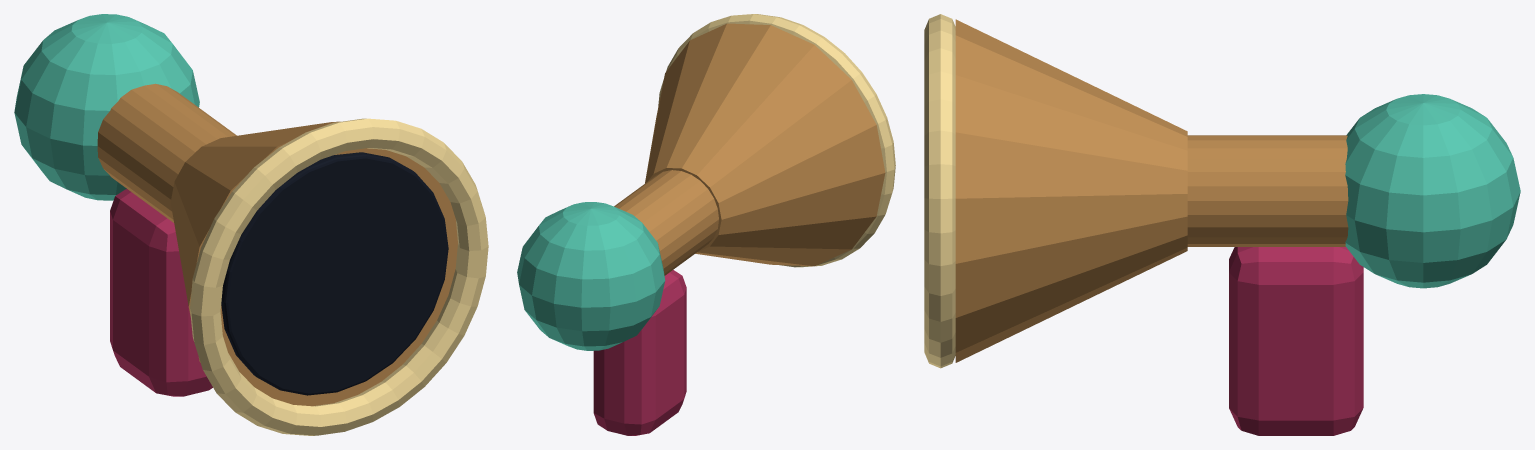
File: Item_remote_horn.fbx
3 views of the same model, side by side, from view 1: azimuth 30°, elevation 25°; view 2: azimuth 150°, elevation 25°; view 3: azimuth 270°, elevation 25° (orthographic). The views are drawn at different scales.
Parts seen in each view (by area): view 1: Item_remote_horn.Mesh; view 2: Item_remote_horn.Mesh; view 3: Item_remote_horn.Mesh.
Boxes of the visible parts, box(x1,y1,x2,y2) form: Item_remote_horn.Mesh: box(14, 14, 488, 435); Item_remote_horn.Mesh: box(517, 14, 895, 435); Item_remote_horn.Mesh: box(924, 14, 1520, 435).
Size of the model in its own units: 47.4 by 58.7 by 79.7.
